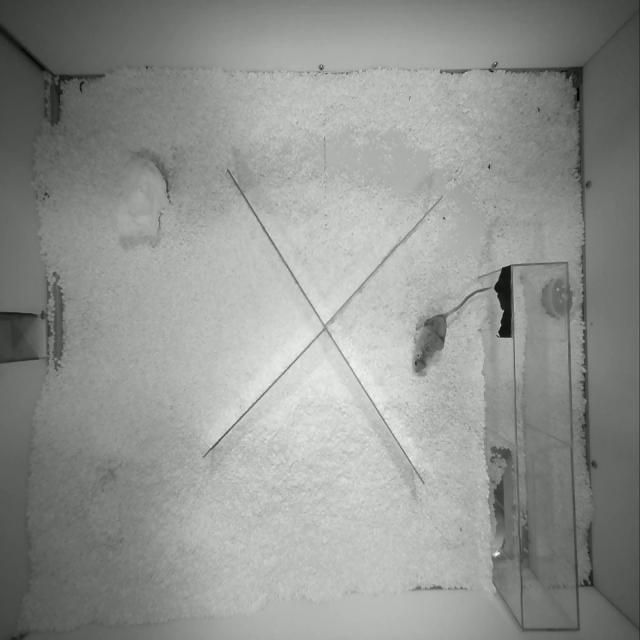adult_back: (413, 287, 491, 372)
